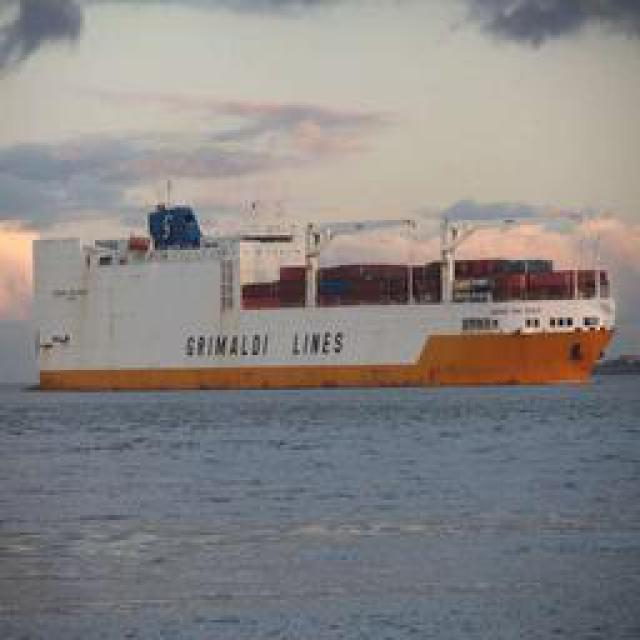Ship: (23, 199, 621, 402)
